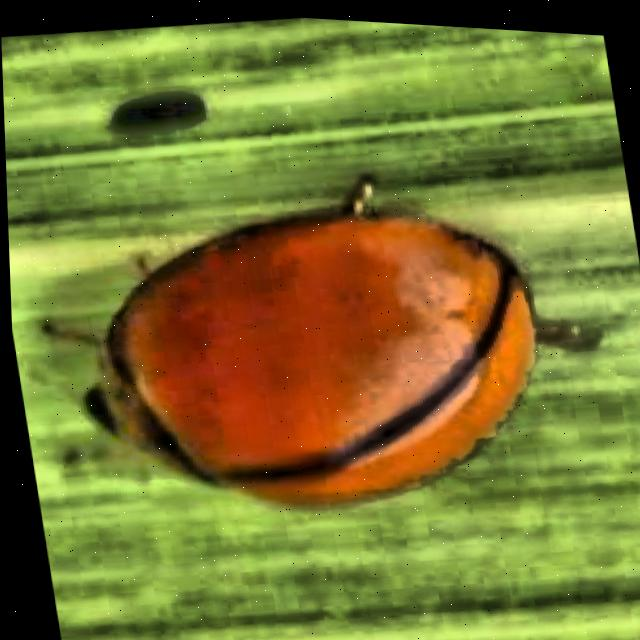Ladybug: (2, 83, 640, 603)
